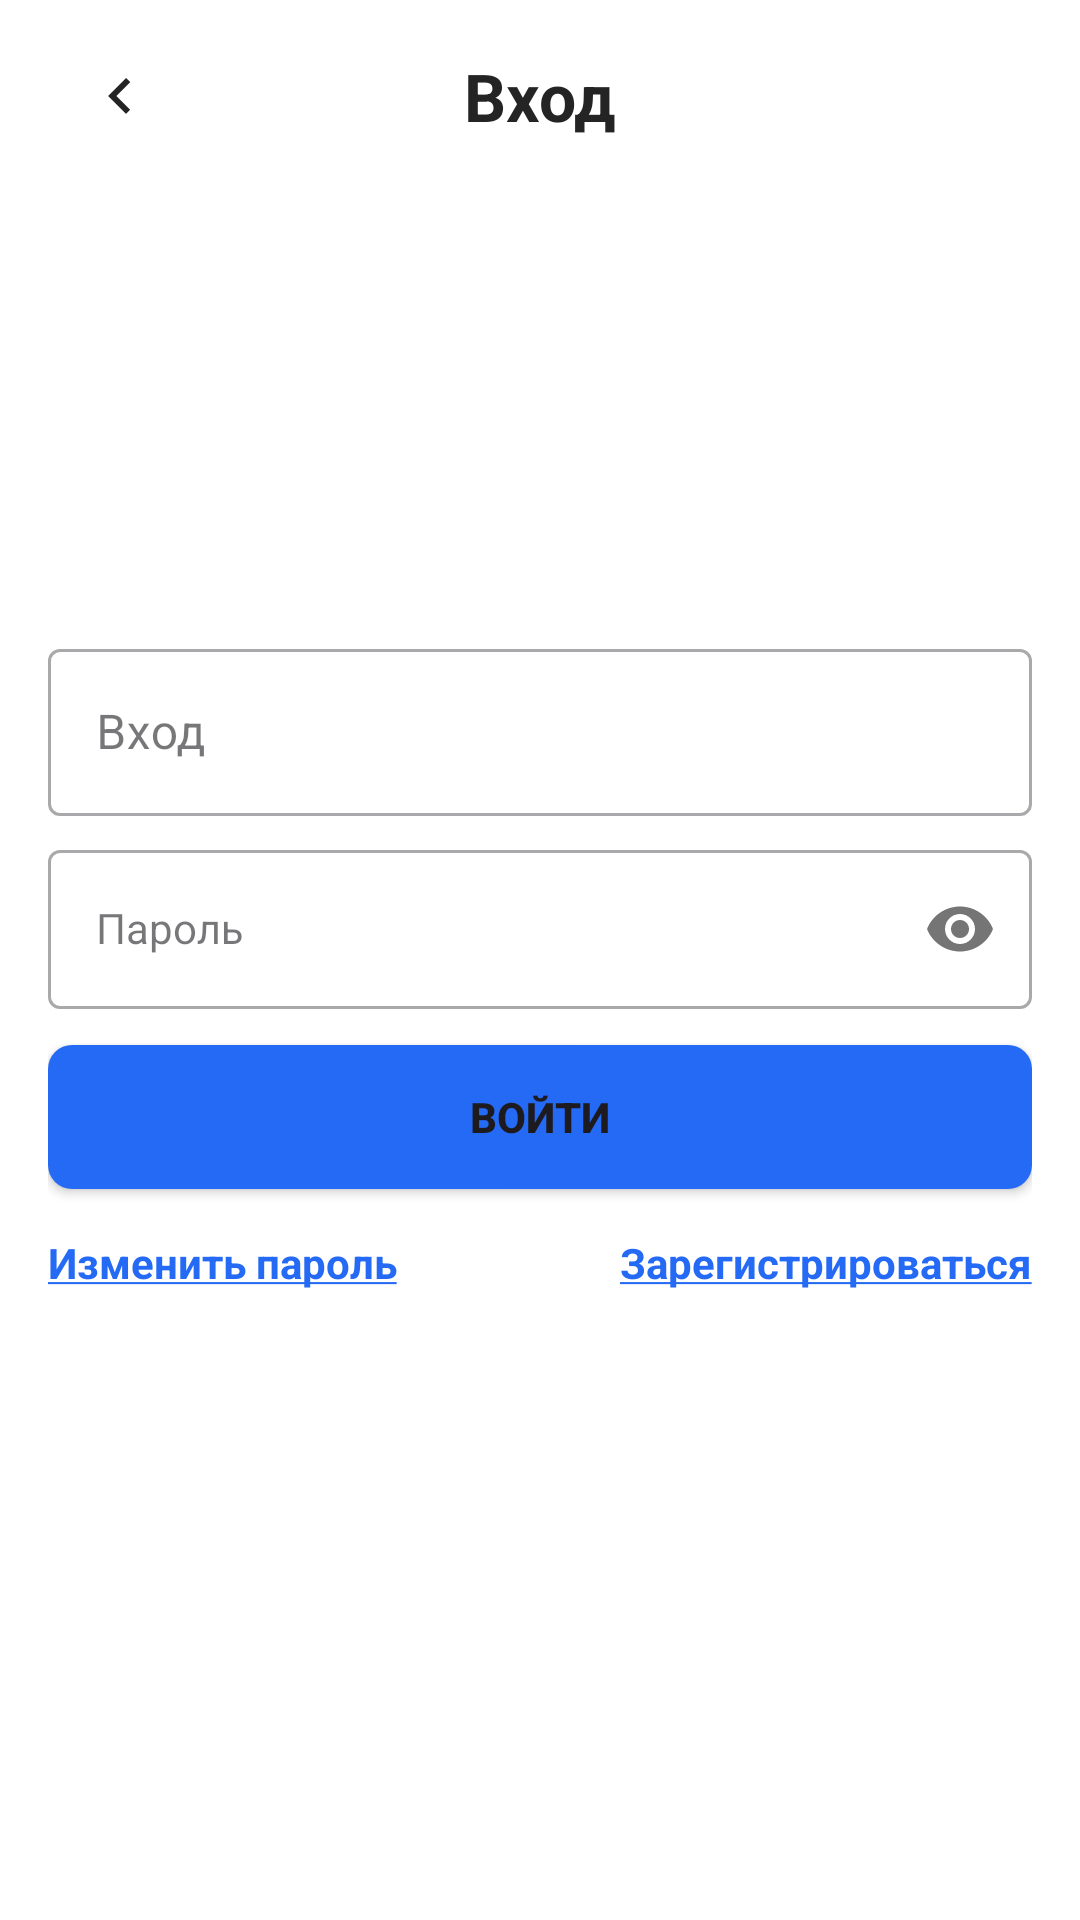

Where to tap for icons on this 1080x1920 app screen, as [x,y]:
GO BACK: [119,96]
